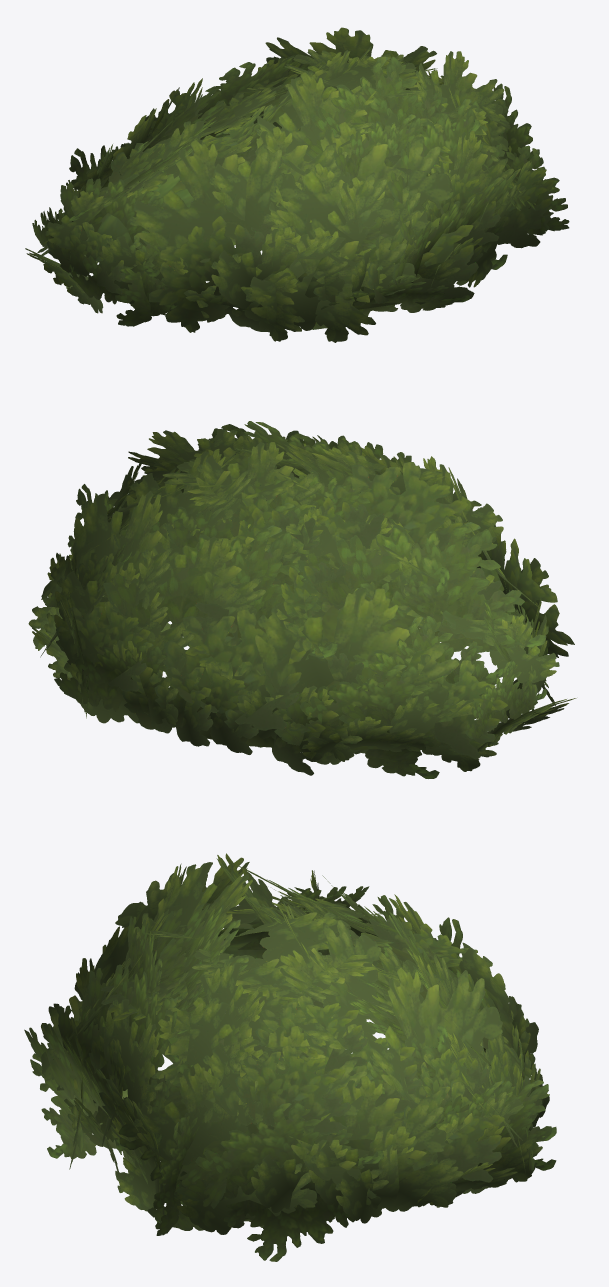
The model's file is Bush_1.glb.
The picture shows the model from 3 angles, top to bottom: view 1: azimuth 30°, elevation 25°; view 2: azimuth 150°, elevation 25°; view 3: azimuth 270°, elevation 25°; orthographic projection. The views are drawn at different scales.
Parts seen in each view (by area): view 1: Foliage_8_BushCCanopy_LOD0, Foliage_8_BushC_LOD0; view 2: Foliage_8_BushCCanopy_LOD0, Foliage_8_BushC_LOD0; view 3: Foliage_8_BushCCanopy_LOD0, Foliage_8_BushC_LOD0.
Part boxes in pixels (<box>): Foliage_8_BushCCanopy_LOD0: <box>25,27,569,342</box>; Foliage_8_BushC_LOD0: <box>97,90,449,309</box>; Foliage_8_BushCCanopy_LOD0: <box>28,421,576,778</box>; Foliage_8_BushC_LOD0: <box>119,464,528,749</box>; Foliage_8_BushCCanopy_LOD0: <box>24,853,556,1261</box>; Foliage_8_BushC_LOD0: <box>88,910,488,1221</box>.
Size of the model in its own units: 2.45 by 1.19 by 2.07.
2 materials, 2 textured.
